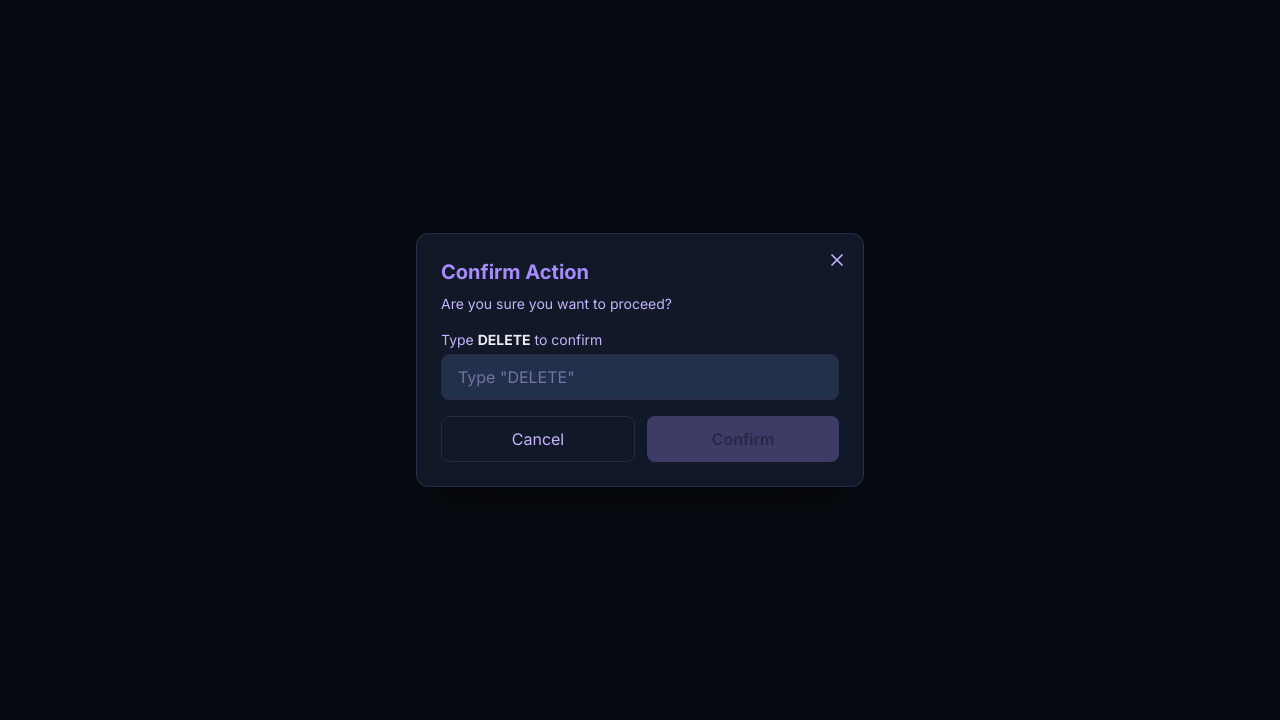
Test: ConfirmDialog › Text Confirmation › should enable confirm button when text matches
In the field with placeholder "Type \"DELETE\"": (640,377) [441,354,839,400], type "DELETE"
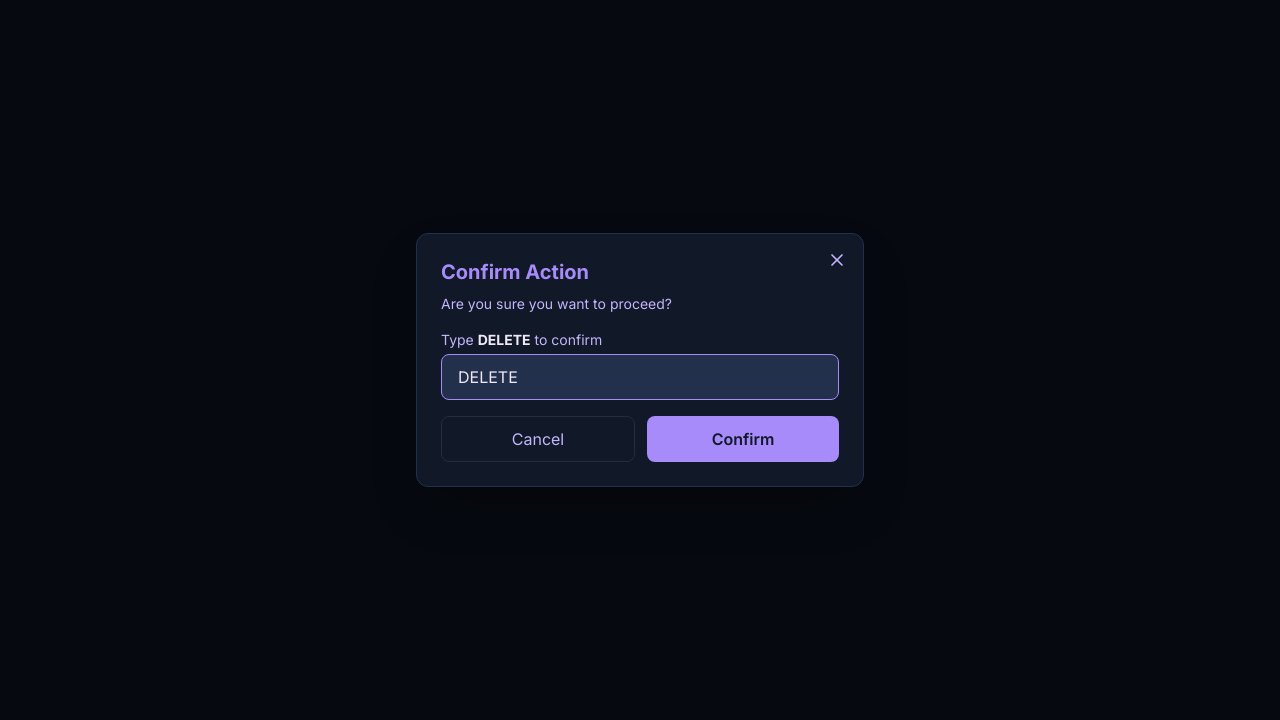
Expected: the button "Confirm" is enabled, [647,416,839,462]
